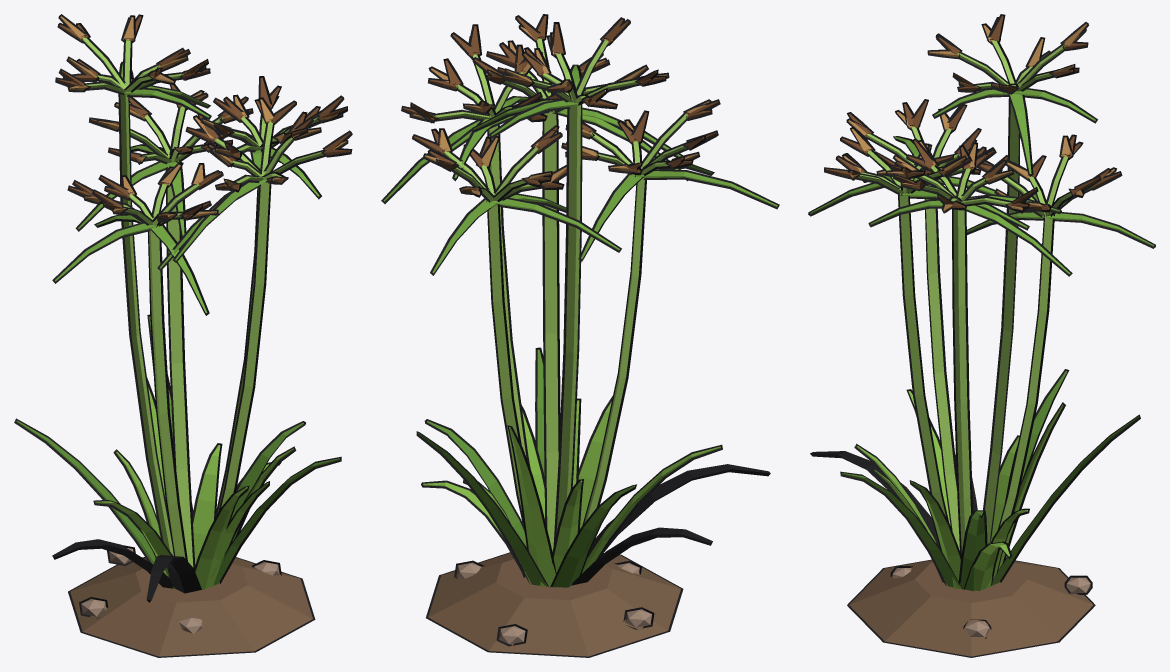
File: Maleza_Coquillo.fbx
The picture shows the model from 3 angles, left to right: view 1: azimuth 30°, elevation 25°; view 2: azimuth 150°, elevation 25°; view 3: azimuth 270°, elevation 25°; orthographic projection. The views are drawn at different scales.
Parts seen in each view (by area): view 1: Maleza_Coquillo; view 2: Maleza_Coquillo; view 3: Maleza_Coquillo.
Boxes of the visible parts, x1,y1,x2,y2 form: Maleza_Coquillo: (14, 14, 352, 657); Maleza_Coquillo: (381, 14, 779, 657); Maleza_Coquillo: (808, 14, 1155, 657).
Size of the model in its own units: 0.7427 by 1.29 by 0.7396.
Materials: 2 (1 with a texture image).
